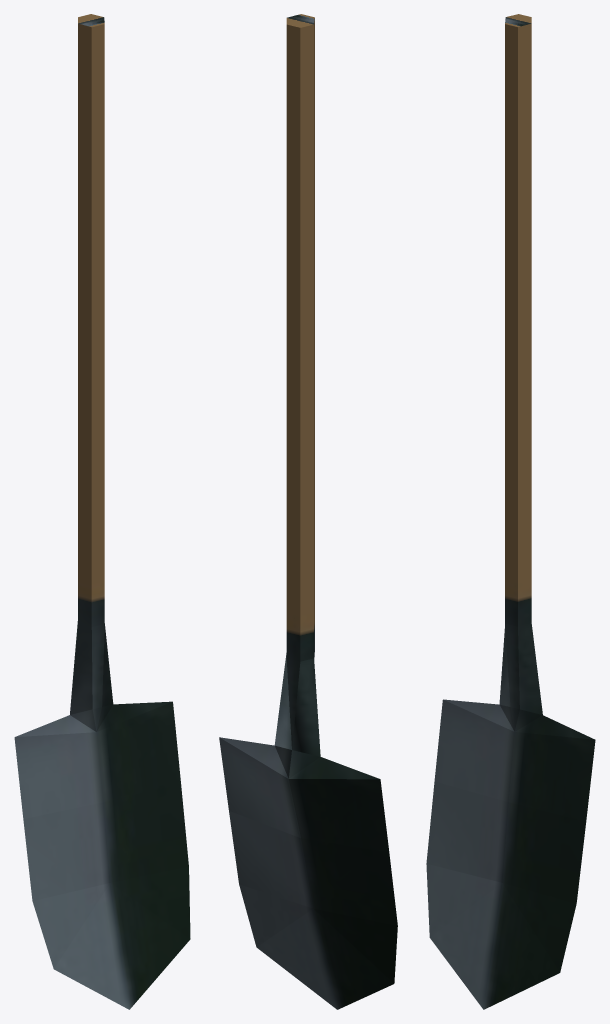
The model's file is chanzimesh.FBX.
3 views of the same model, side by side, from view 1: azimuth 30°, elevation 25°; view 2: azimuth 150°, elevation 25°; view 3: azimuth 330°, elevation 25° (orthographic). The views are drawn at different scales.
Visible parts, largest first — view 1: Cylinder02; view 2: Cylinder02; view 3: Cylinder02.
Boxes of the visible parts, x1,y1,x2,y2 form: Cylinder02: [14, 14, 190, 1009]; Cylinder02: [219, 14, 397, 1009]; Cylinder02: [426, 14, 595, 1009].
Bounding box in the file's own units: 239 × 1415 × 128.
1 material, 1 textured.
